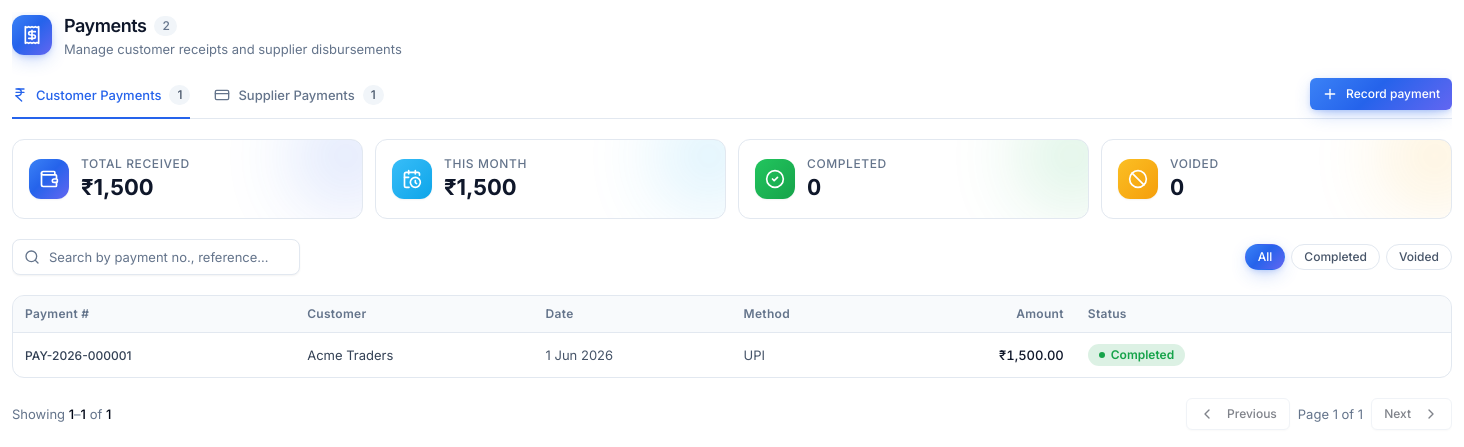
Test: PaymentsView › switches to the supplier tab and shows supplier payments
This screenshot has width=1464, height=447.
Click the tab "Supplier Payments 1" at (299, 102), box [214,85,384,119]
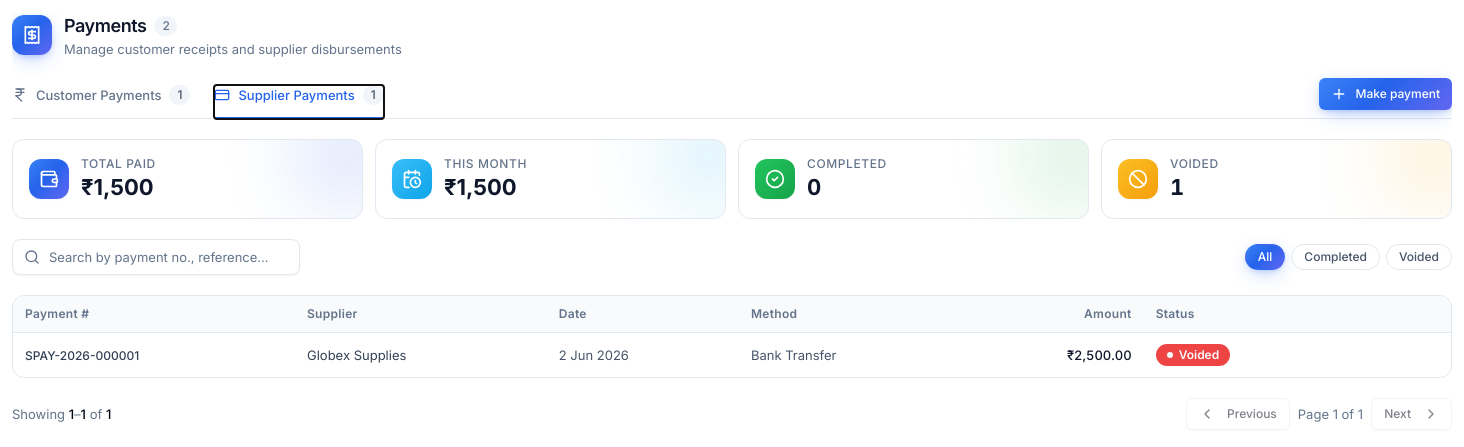
Check: the link "SPAY-2026-000001" is shown, box [25,348,139,362]
Check: the text "Globex Supplies" is shown, box [295,332,547,376]
Check: the text "Voided" is shown, box [1156,344,1230,366]
